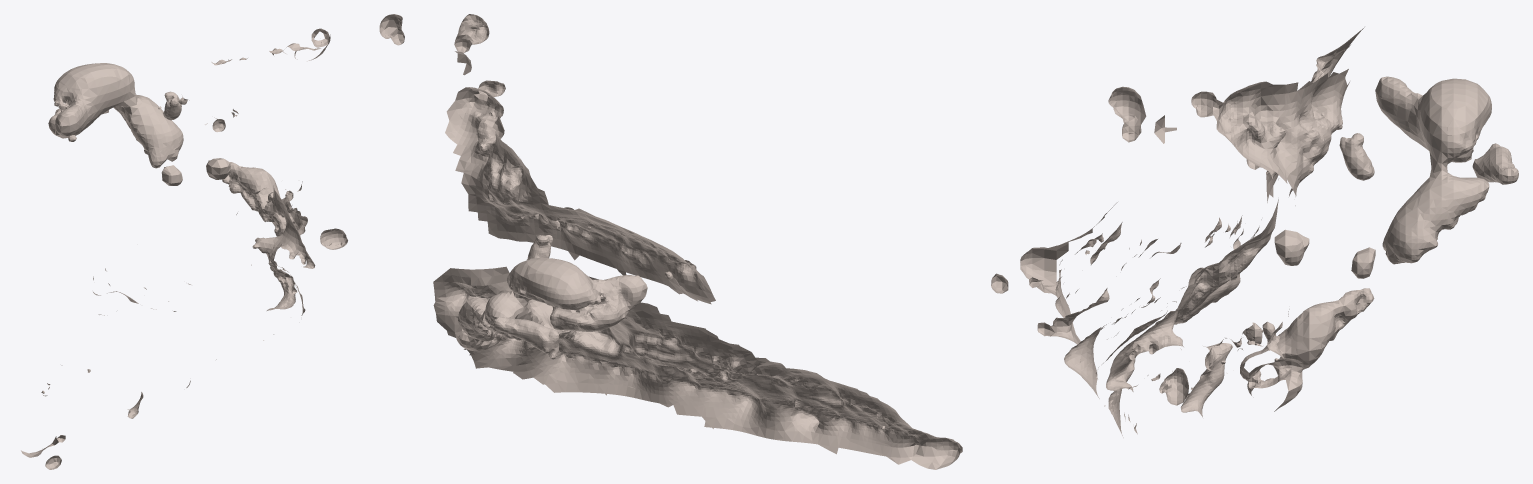
3 renders of one model, left to right at view 1: azimuth 30°, elevation 25°; view 2: azimuth 150°, elevation 25°; view 3: azimuth 270°, elevation 25°, orthographic. The views are drawn at different scales.
Visible parts, largest first — view 1: world; view 2: world; view 3: world.
Part boxes in pixels (x1,y1,x2,y2): world: (21, 14, 404, 469); world: (433, 14, 962, 469); world: (991, 27, 1518, 437).
Size of the model in its own units: 1.75 by 1.33 by 1.34.
